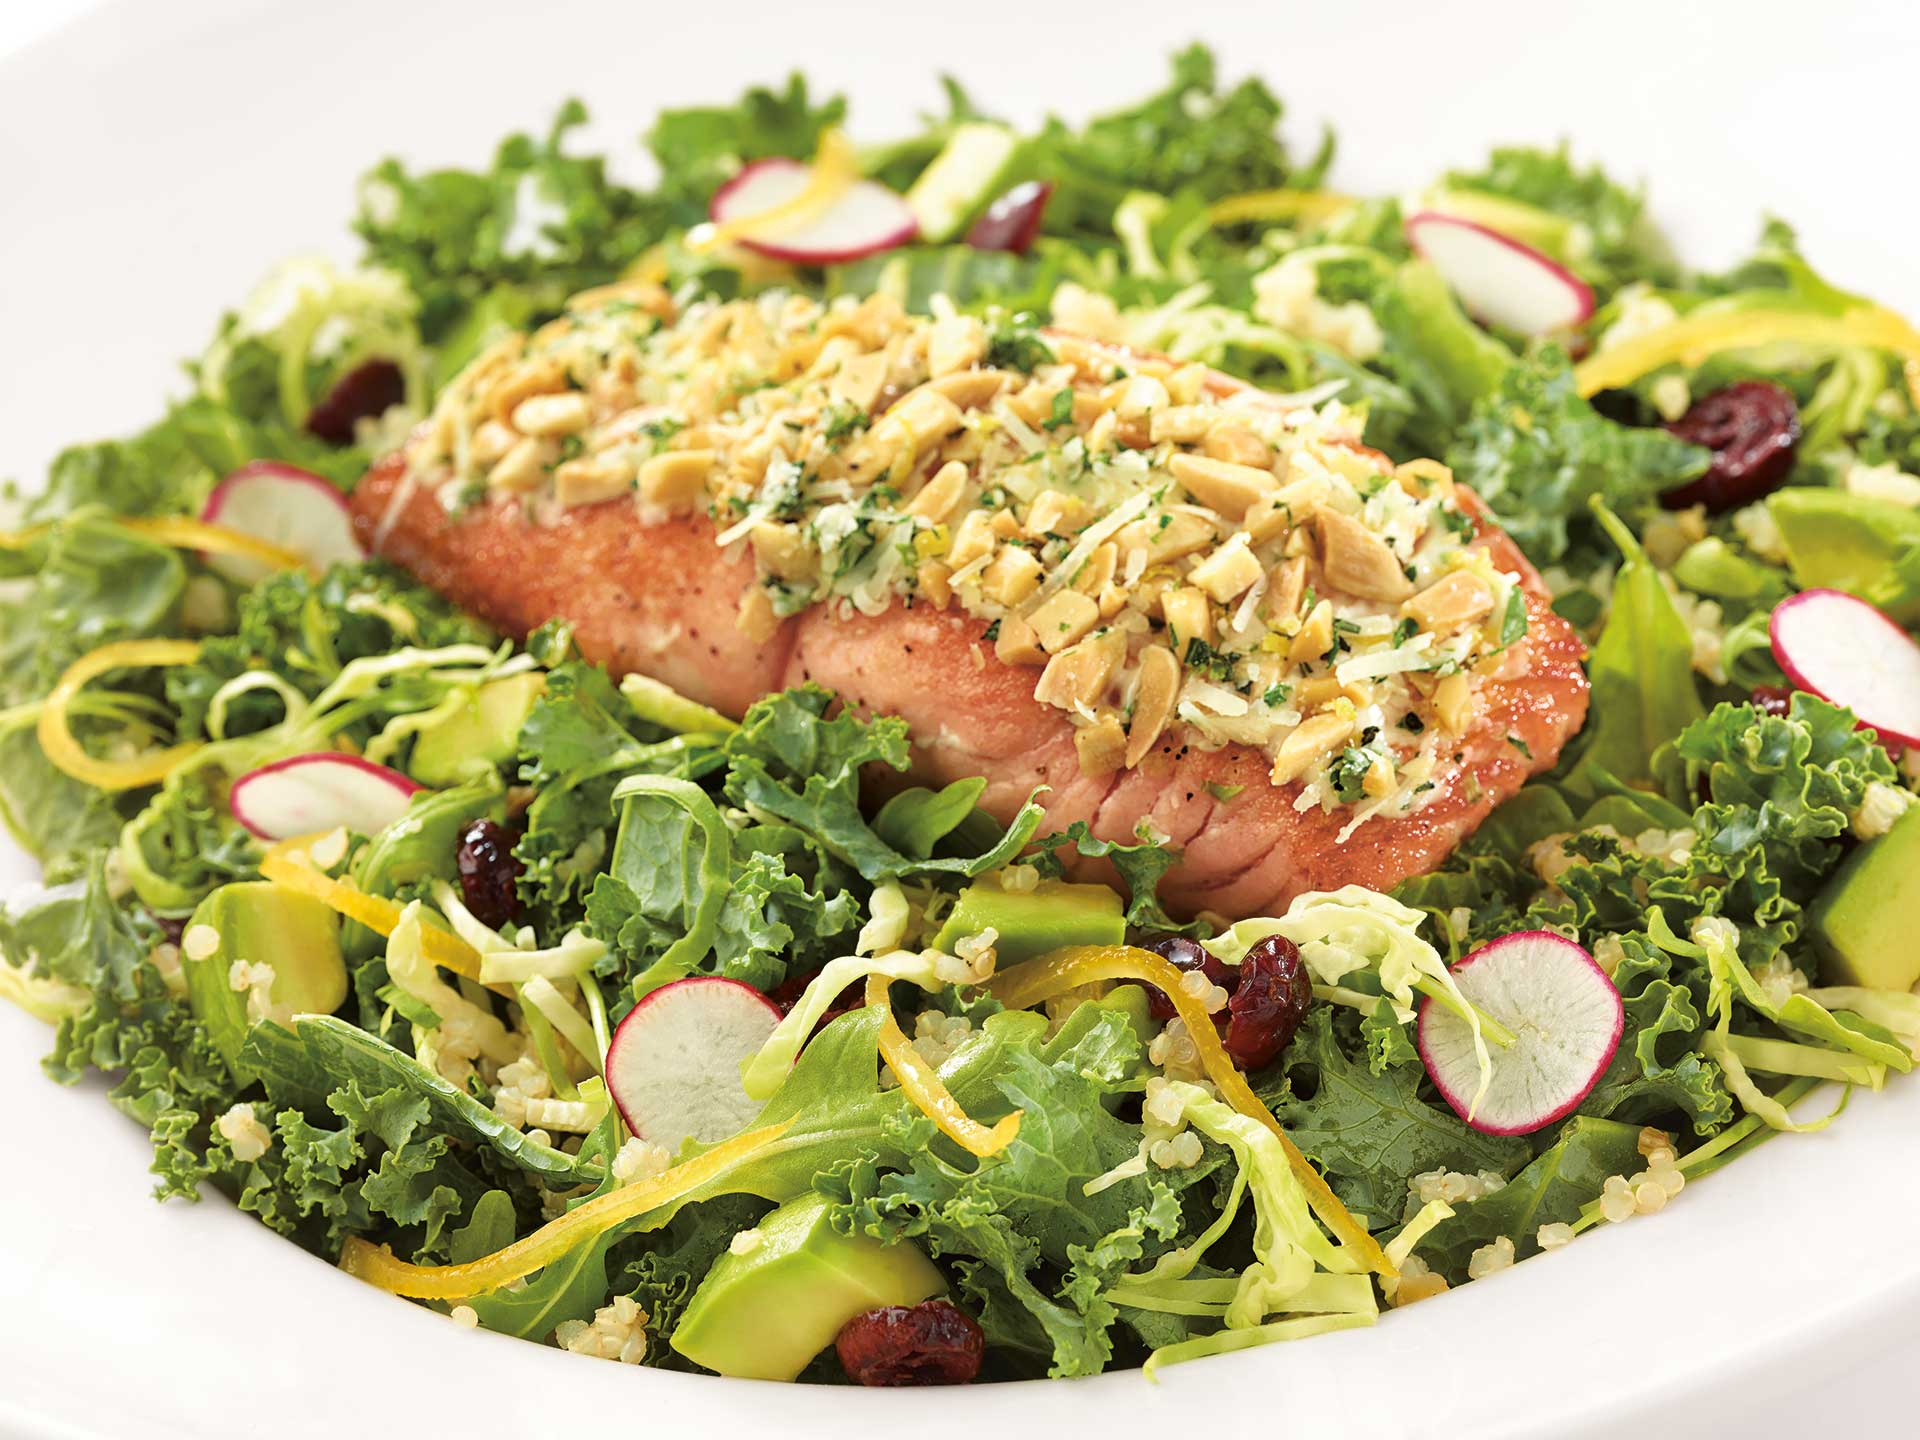chopped lettuce: (73, 718, 993, 1333), (1099, 953, 1754, 1190)
